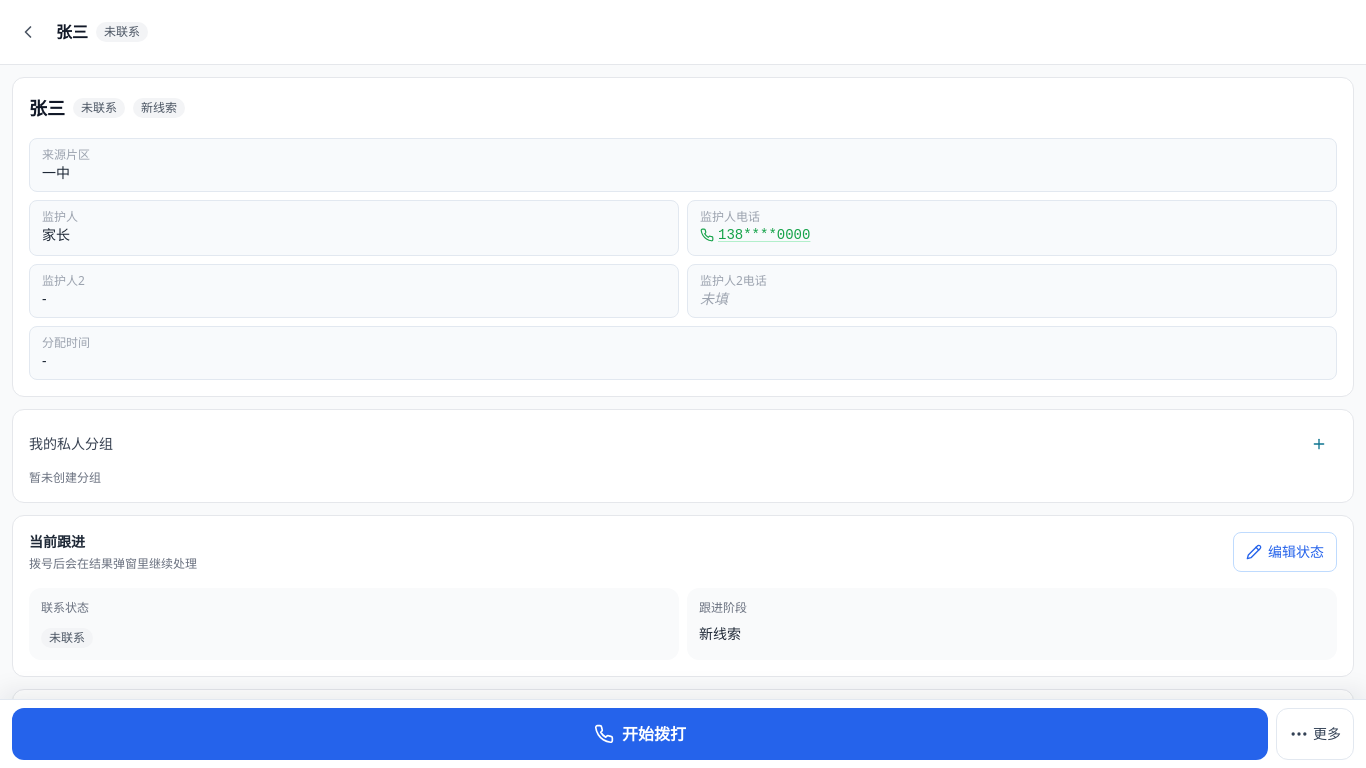
Scenario: MobileStudentDetail follow-up workflow › keeps dial as the primary bottom action and groups secondary actions
Expected: the text "完整时间线" is shown, [29,706,123,725]
Expected: the button "开始拨打" is shown, [12,708,1268,760]
Click the button with aria-label "更多操作": [1315, 734] box [1276,708,1354,760]
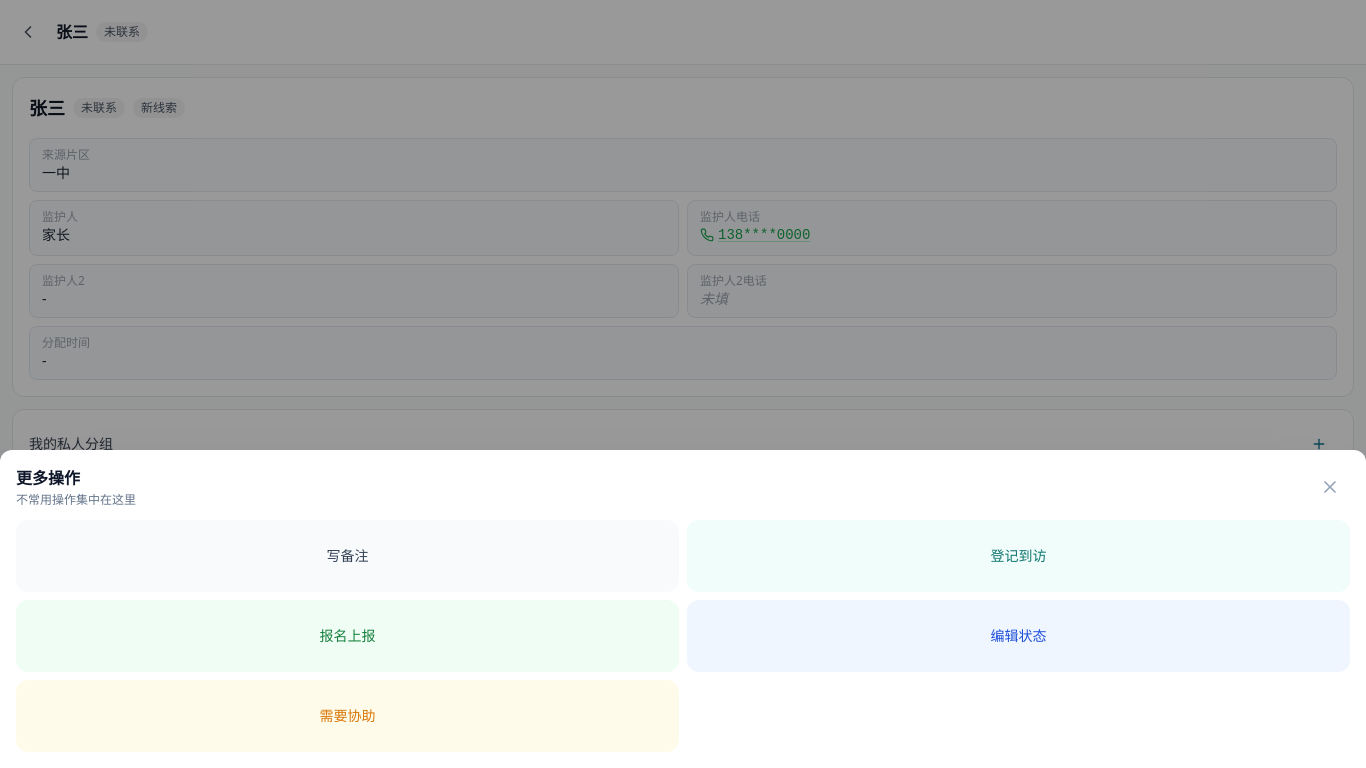
Expected: the button "写备注" is shown, [16,520,679,592]
Expected: the button "登记到访" is shown, [687,520,1350,592]
Expected: the button "编辑状态" is shown, [687,600,1350,672]
